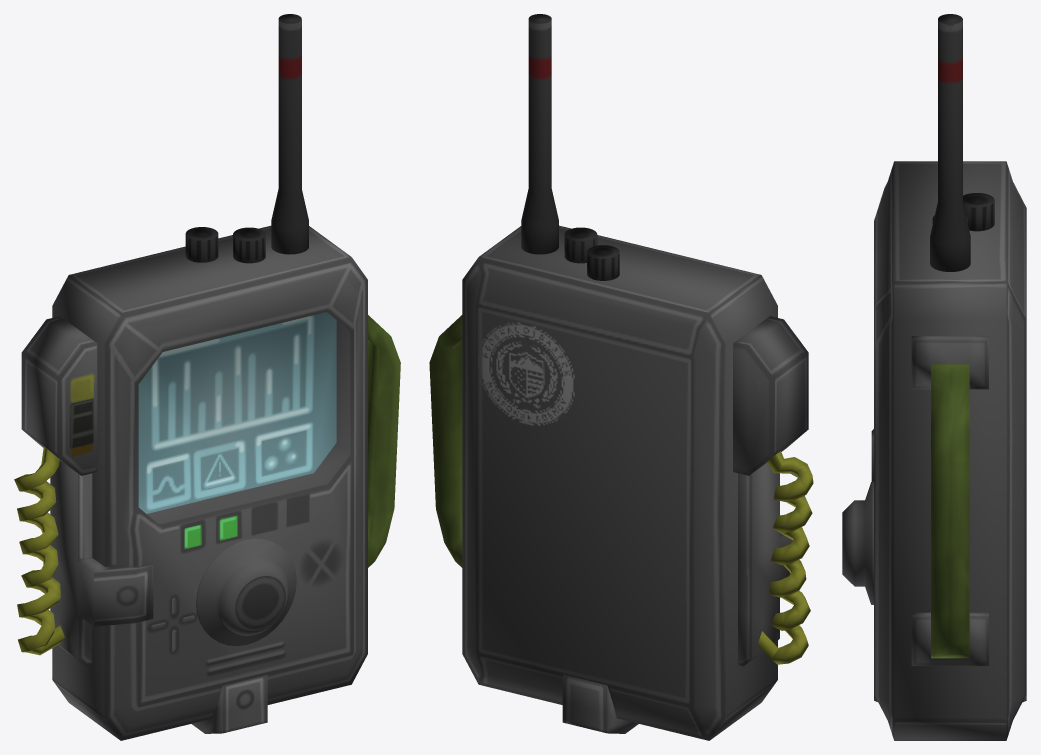
The model's file is SporesScanner_PharmahugScientific.fbx.
3 views of the same model, side by side, from view 1: azimuth 30°, elevation 25°; view 2: azimuth 150°, elevation 25°; view 3: azimuth 270°, elevation 25° (orthographic). The views are drawn at different scales.
Visible parts, largest first — view 1: Cube.187; view 2: Cube.187; view 3: Cube.187.
Part boxes in pixels (<box>): Cube.187: <box>14,14,400,740</box>; Cube.187: <box>429,14,813,740</box>; Cube.187: <box>842,14,1026,740</box>.
Size of the model in its own units: 0.1032 by 0.1795 by 0.0413.
